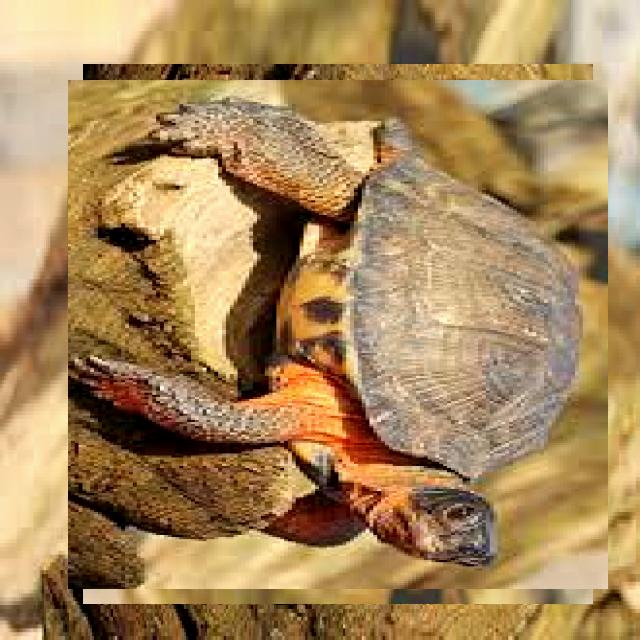Sea turtle: (75, 71, 601, 597)
